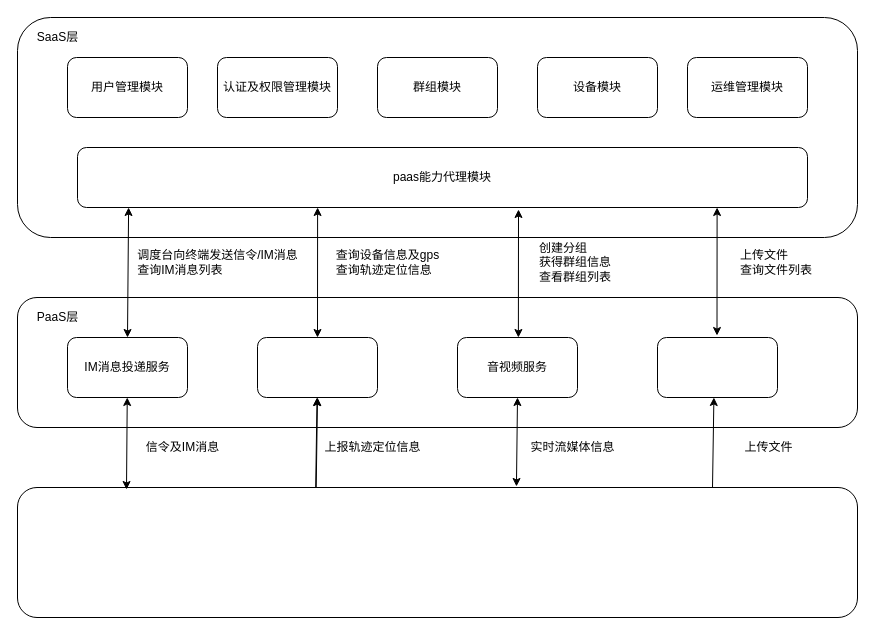
This 875x635 diagram has some shape labels left out. Here are the shapes that lost their labels. From the top down, the centre of each, then its label:
At (x=317, y=367): "GPS轨迹定位服务".
At (x=717, y=367): "文件存储服务服务".
At (x=437, y=552): "终端设备".
